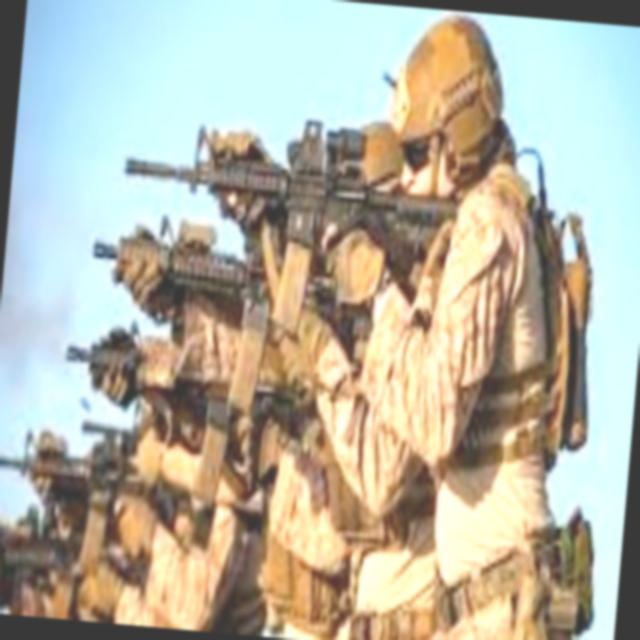m16: (80, 90, 496, 362)
